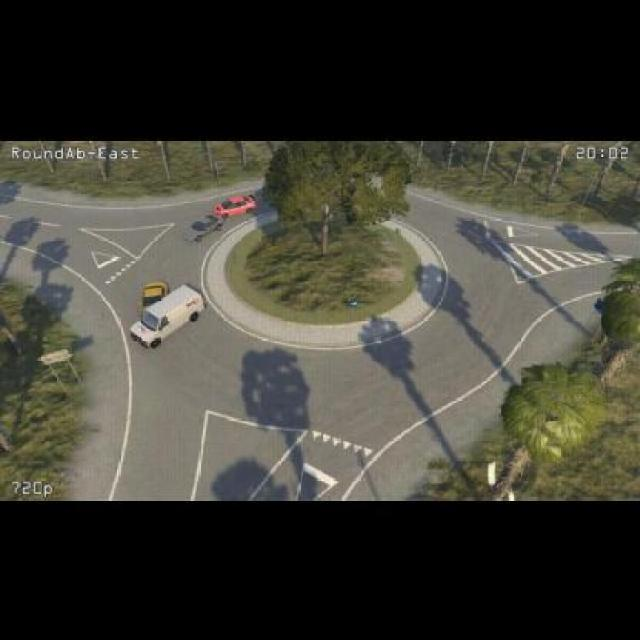accident: (129, 277, 168, 335)
